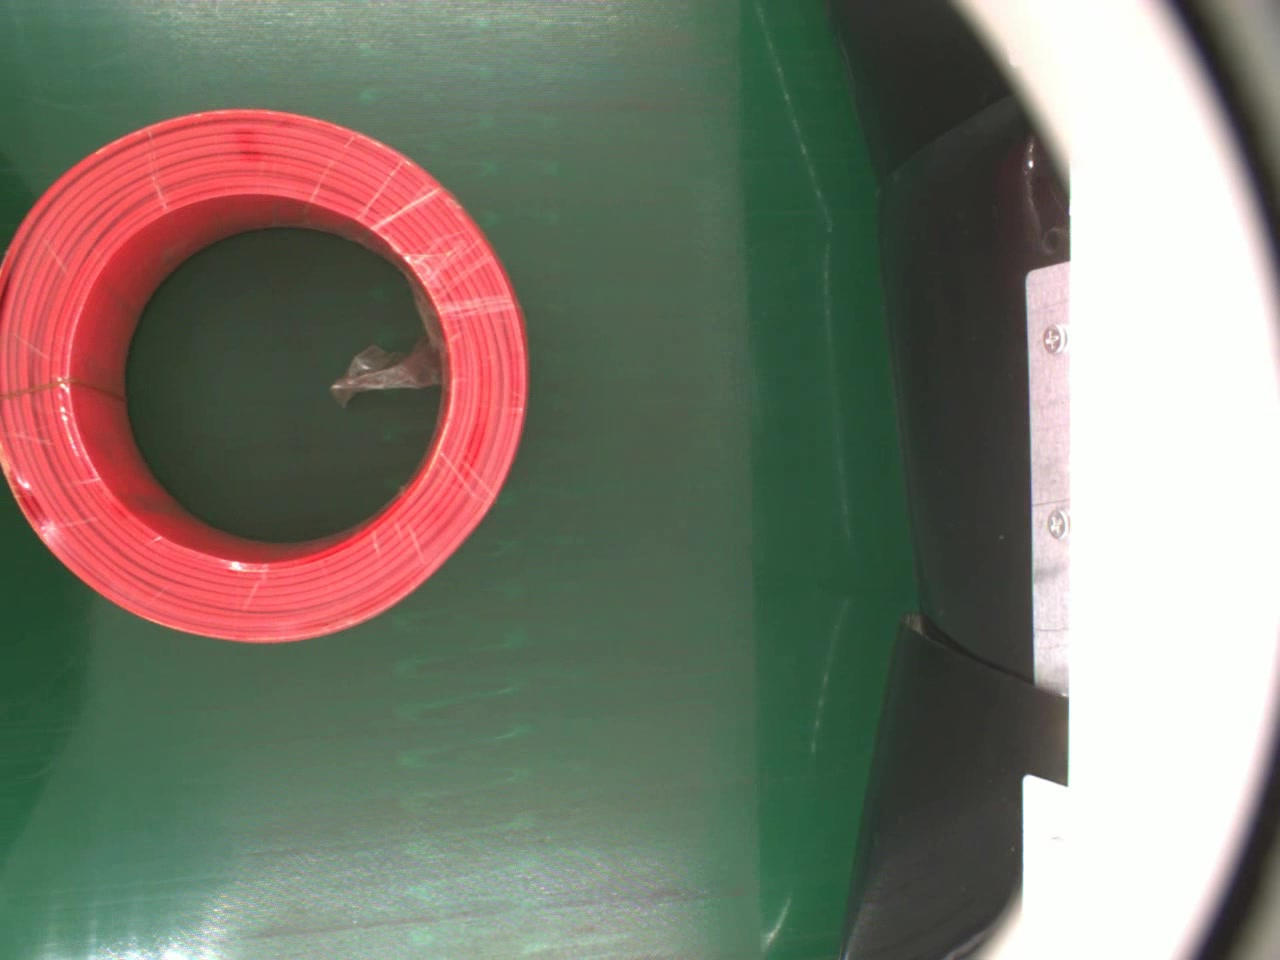red: (2, 108, 537, 646)
